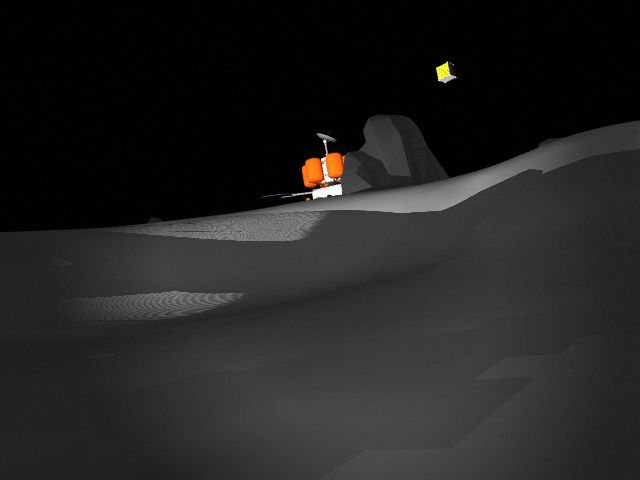cubesat: (429, 57, 461, 87)
